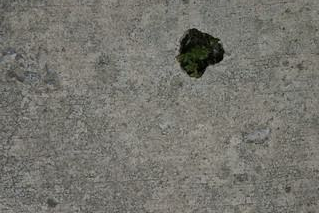Spalling: (175, 28, 226, 79)
